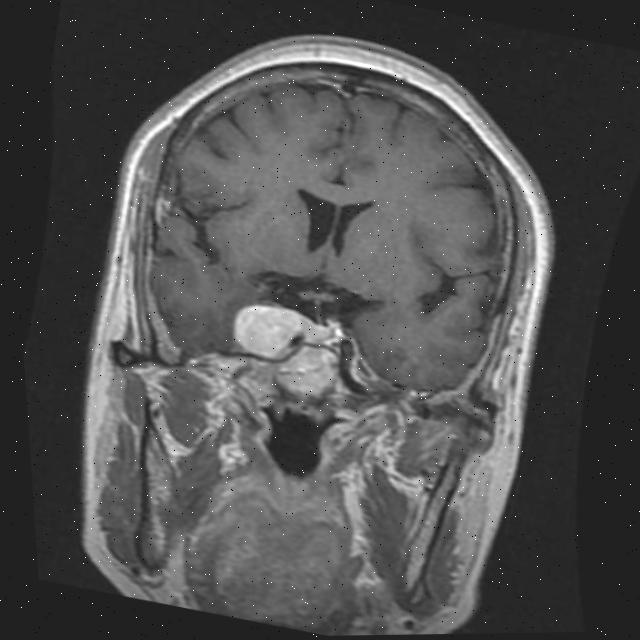Meningioma: (226, 298, 305, 364)
Pituitary: (271, 337, 343, 401), (298, 312, 349, 351)
